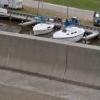Boat: (16, 7, 96, 42)
